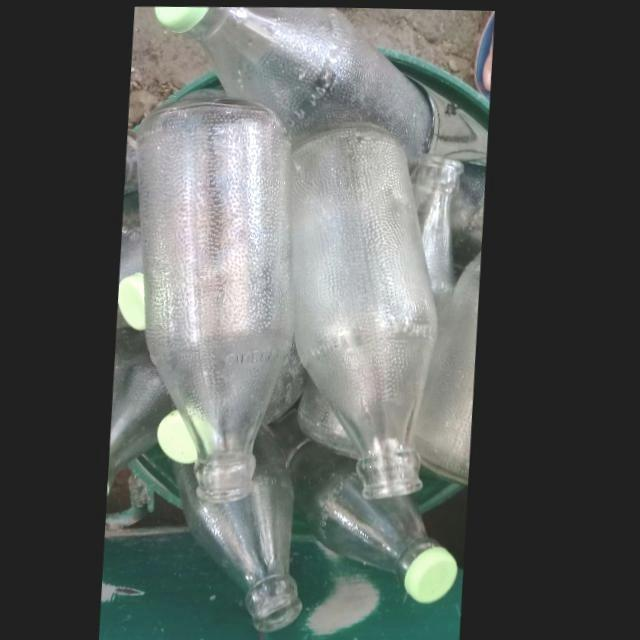glass_bottle: (138, 95, 299, 500), (294, 119, 443, 496), (154, 6, 434, 155), (296, 438, 466, 601), (185, 424, 311, 630), (422, 247, 485, 483), (114, 323, 182, 495)
